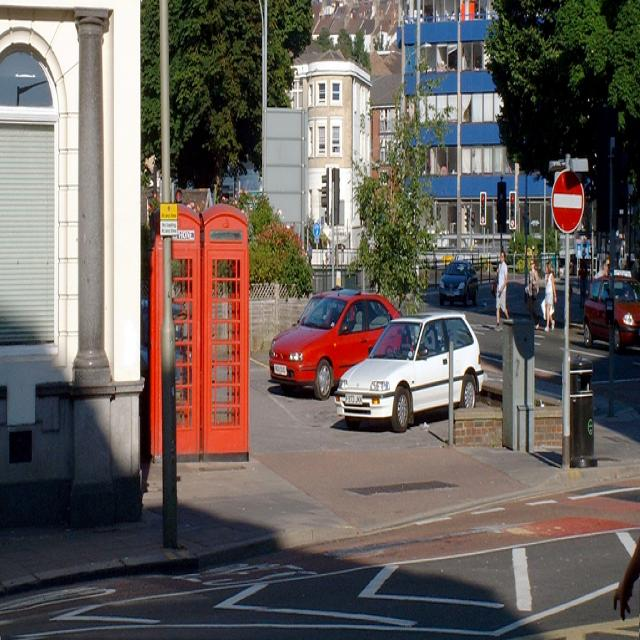car: (432, 253, 477, 305)
